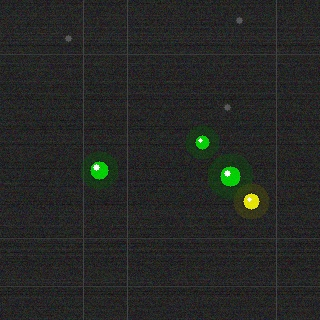green_normal: (218, 164, 242, 188), (88, 159, 110, 181), (193, 133, 211, 151)
yellow_warning: (241, 191, 261, 211)
